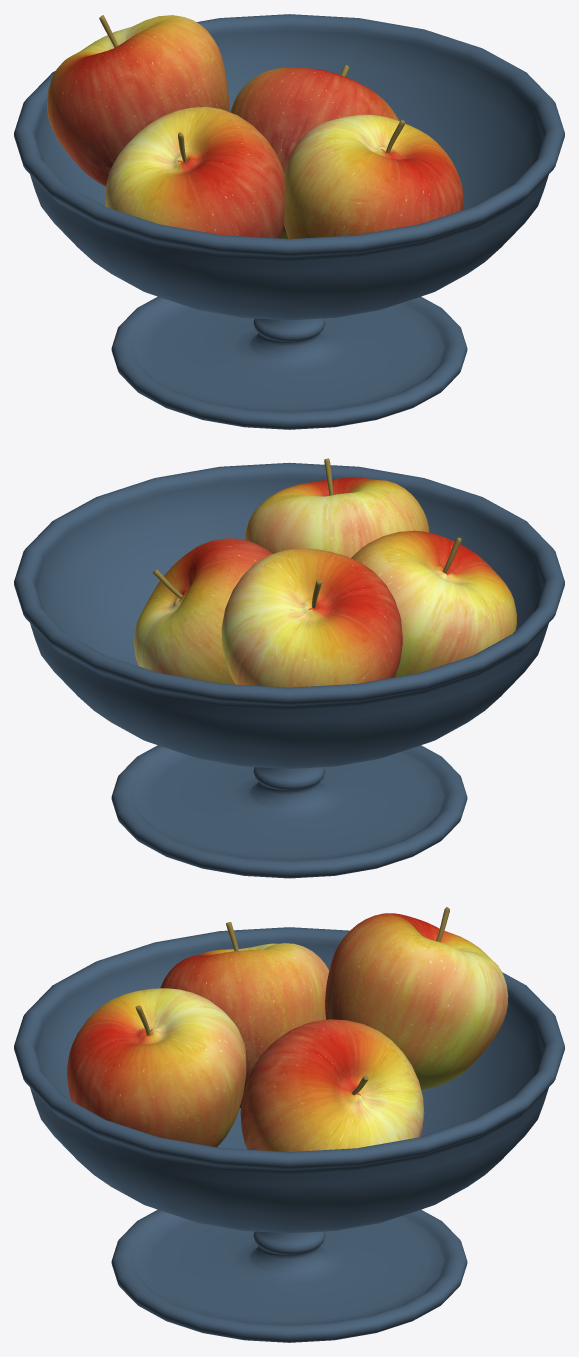
Rendered from apple.glb.
3 views of the same model, one above another, from view 1: azimuth 30°, elevation 25°; view 2: azimuth 150°, elevation 25°; view 3: azimuth 270°, elevation 25° (orthographic).
Parts seen in each view (by area): view 1: jar_Plane, apple2_Tube.002, apple2.003_Tube.005, apple2.001_Tube.001, apple2.002_Tube.004; view 2: jar_Plane, apple2.003_Tube.005, apple2_Tube.002, apple2.002_Tube.004, apple2.001_Tube.001; view 3: jar_Plane, apple2.001_Tube.001, apple2.003_Tube.005, apple2.002_Tube.004, apple2_Tube.002.
Part boxes in pixels (bbox=[...]): jar_Plane: bbox=[14, 14, 564, 429]; apple2_Tube.002: bbox=[105, 107, 284, 238]; apple2.003_Tube.005: bbox=[47, 15, 229, 186]; apple2.001_Tube.001: bbox=[284, 114, 463, 238]; apple2.002_Tube.004: bbox=[230, 65, 399, 238]; jar_Plane: bbox=[14, 462, 564, 878]; apple2.003_Tube.005: bbox=[221, 548, 402, 687]; apple2_Tube.002: bbox=[351, 530, 516, 677]; apple2.002_Tube.004: bbox=[134, 538, 272, 684]; apple2.001_Tube.001: bbox=[244, 458, 429, 557]; jar_Plane: bbox=[14, 927, 564, 1342]; apple2.001_Tube.001: bbox=[67, 988, 246, 1147]; apple2.003_Tube.005: bbox=[325, 907, 508, 1089]; apple2.002_Tube.004: bbox=[240, 1019, 424, 1151]; apple2_Tube.002: bbox=[160, 922, 329, 1107].
Size of the model in its own units: 0.2339 by 0.1456 by 0.2339.
Materials: 3 (1 with a texture image).
